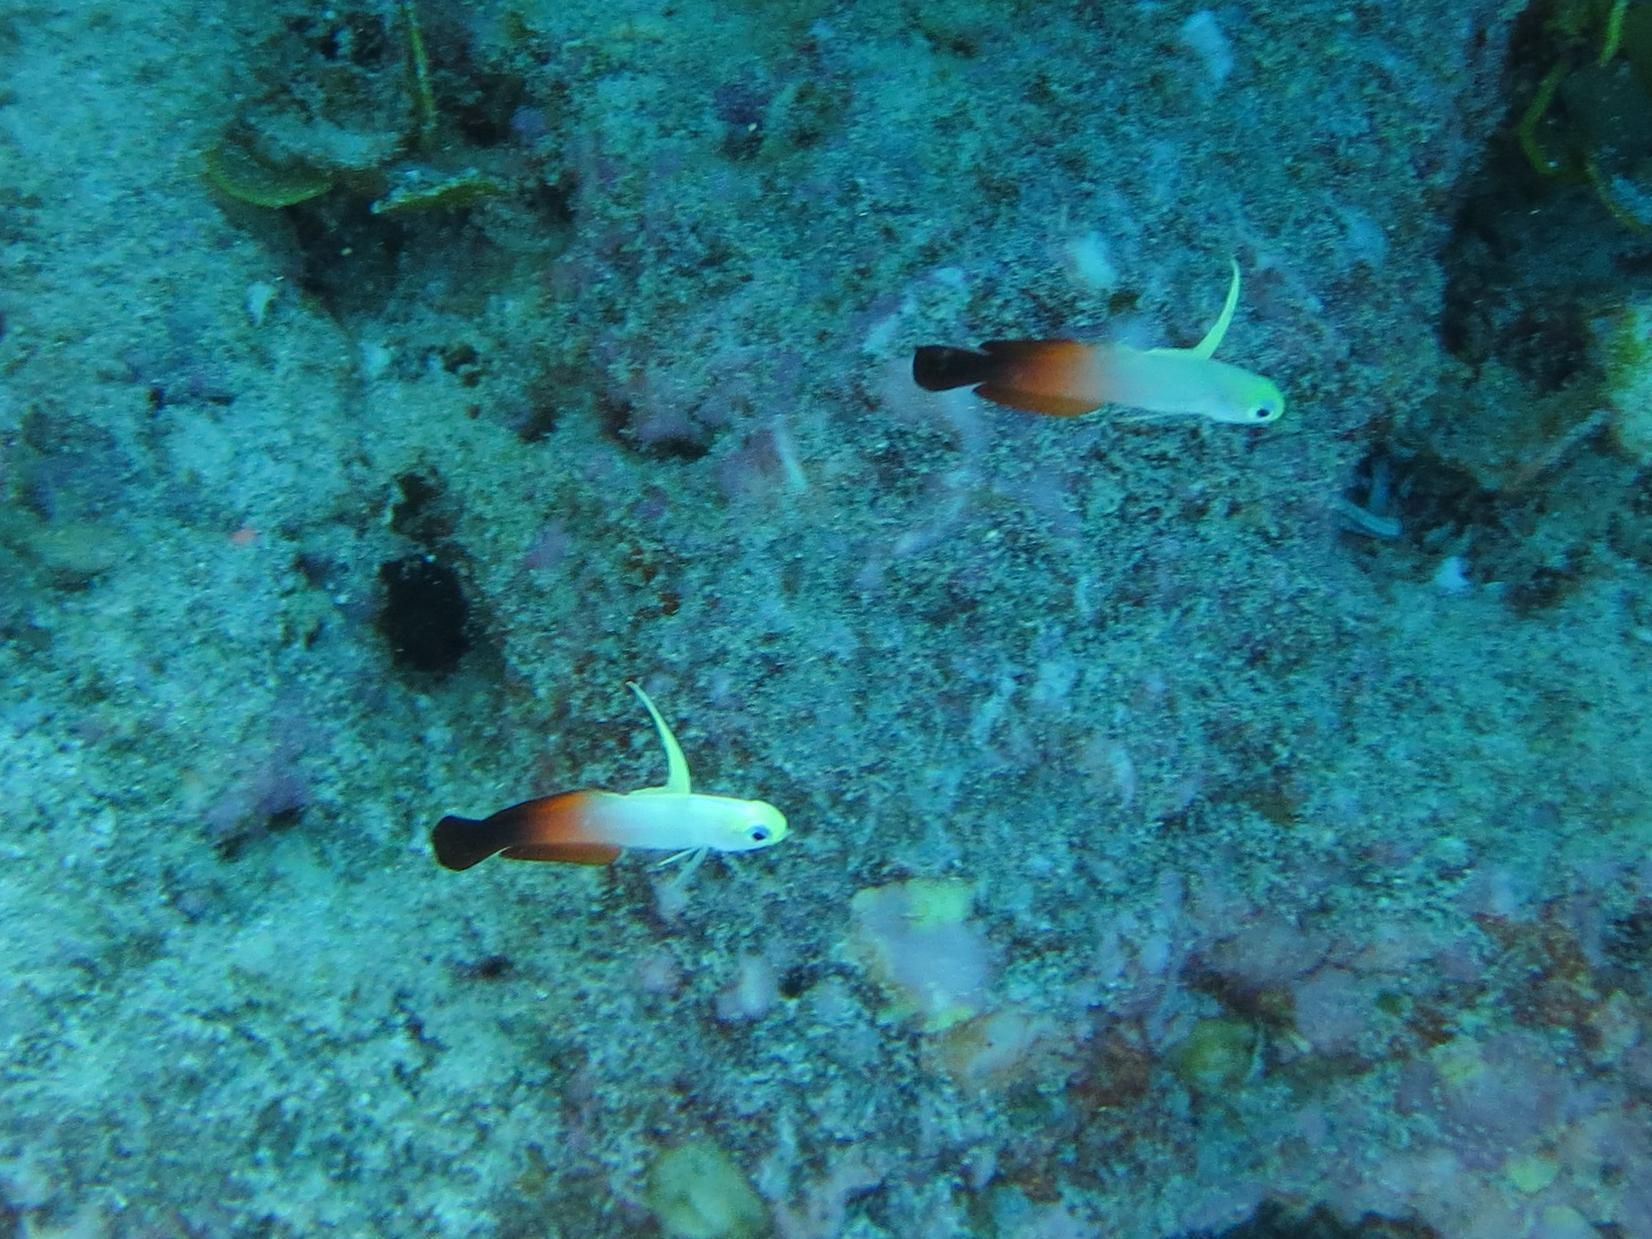Fish: (862, 236, 1307, 522), (411, 662, 835, 932)
